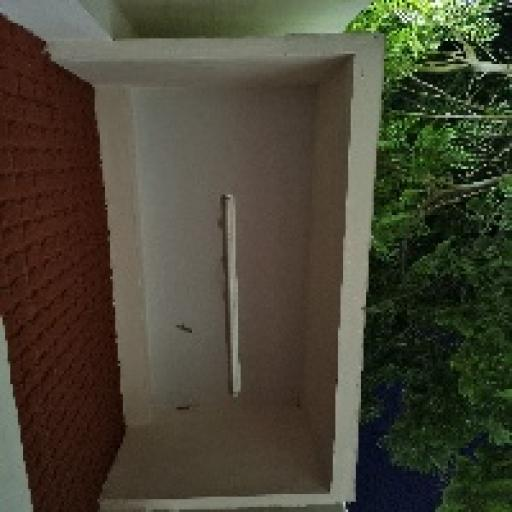Not Working: (207, 186, 270, 402)
